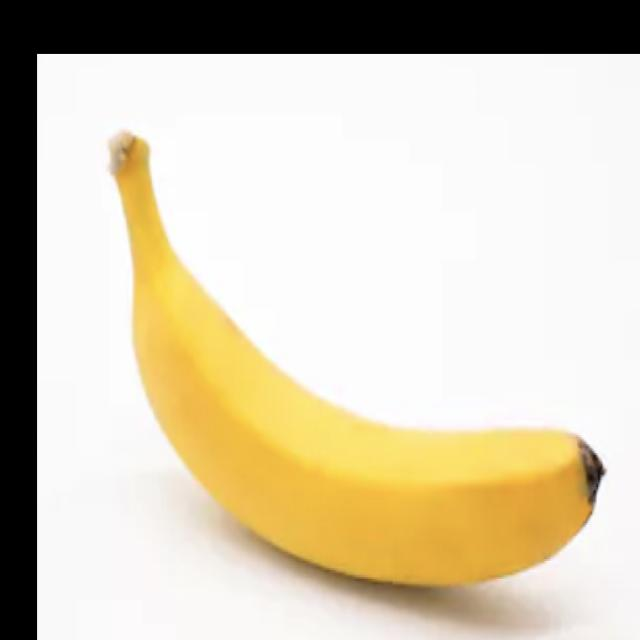Ripe: (99, 119, 617, 598)
